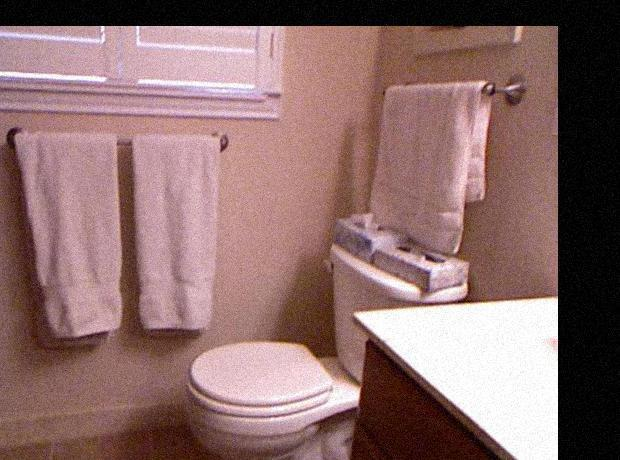Sanitario: (183, 242, 477, 460)
